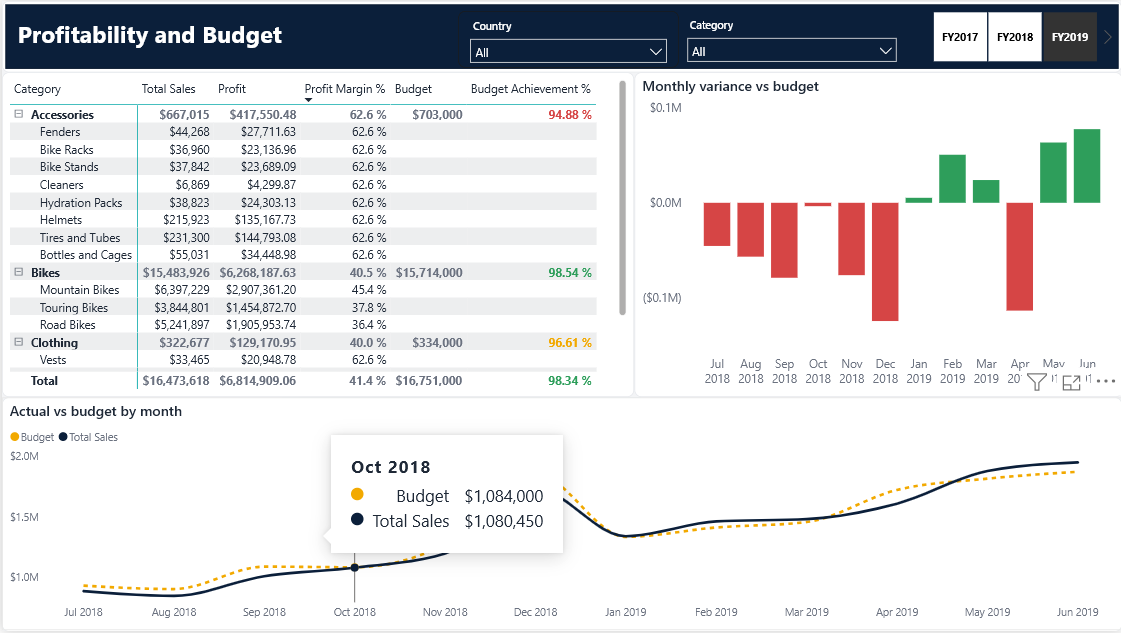

The dashboard page shown, as its layout file describes it:
{"tool":"powerbi","page":{"name":"Profitability and Budget","canvas":[1280,720],"ordinal":1},"visuals":[{"type":"shape","box":[0,0,1280,81.4],"z":0},{"type":"slicer","fields":{"Values":["DimDate.FY"]},"box":[1038.7,6,236.5,70],"z":1000},{"type":"textbox","box":[12.9,14.3,494.3,55.7],"z":2000},{"type":"slicer","fields":{"Values":["DimCategory.Category"]},"box":[773.3,14.5,259.4,61.5],"z":3000},{"type":"slicer","fields":{"Values":["DimTerritory.Country"]},"box":[521.2,10.9,252.1,65.1],"z":4000},{"type":"pivotTable","fields":{"Rows":["DimCategory.Category","DimProduct.SubCategory"],"Values":["_Measures.Total Sales","_Measures.Profit","_Measures.Profit Margin %","_Measures.Budget","_Measures.Budget Achievement %"]},"box":[0,80.8,722.7,371.6],"z":5000},{"type":"lineClusteredColumnComboChart","title":"Monthly variance vs budget","fields":{"Category":["DimDate.Month Label"],"Y":["_Measures.Budget Variance"]},"box":[722.7,80.8,557.4,371.6],"z":6000},{"type":"lineChart","fields":{"Y":["_Measures.Budget","_Measures.Total Sales"],"Category":["DimDate.Month Label"]},"box":[0,452.4,1280,267.8],"z":7000}]}

Visuals, with their boxes in screenshot pixels (x1, y1, x2, y2), scaled from the page's 1280x720 canvas onto the 1121x633 screenshot:
shape: [x1=0, y1=0, x2=1120, y2=72]
slicer - DimDate.FY: [x1=910, y1=5, x2=1117, y2=67]
textbox: [x1=11, y1=13, x2=444, y2=62]
slicer - DimCategory.Category: [x1=677, y1=13, x2=904, y2=67]
slicer - DimTerritory.Country: [x1=456, y1=10, x2=677, y2=67]
pivotTable - DimCategory.Category x DimProduct.SubCategory: [x1=0, y1=71, x2=633, y2=398]
"Monthly variance vs budget" lineClusteredColumnComboChart: [x1=633, y1=71, x2=1120, y2=398]
lineChart - _Measures.Budget x _Measures.Total Sales: [x1=0, y1=398, x2=1120, y2=632]
